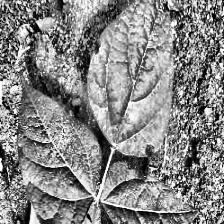ALS: (17, 65, 98, 224), (94, 0, 181, 146), (104, 157, 202, 224)
